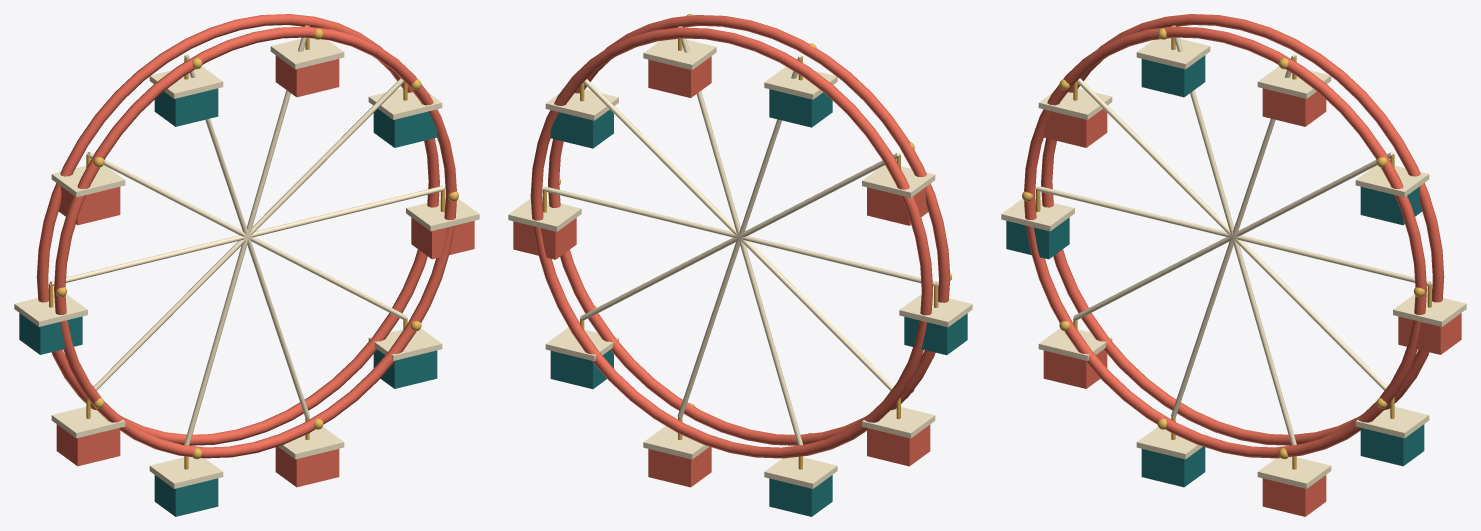
File: ferris_rotor.glb
3 renders of one model, left to right at view 1: azimuth 30°, elevation 25°; view 2: azimuth 150°, elevation 25°; view 3: azimuth 330°, elevation 25°, orthographic.
Visible parts, largest first — view 1: ferris_rotor, Cabin_7, Cabin_2, Cabin_6, Cabin_8, Cabin_1, Cabin_5, Cabin_0, Cabin_3, Cabin_9, Cabin_4; view 2: ferris_rotor, Cabin_7, Cabin_2, Cabin_6, Cabin_8, Cabin_5, Cabin_0, Cabin_1, Cabin_3, Cabin_9, Cabin_4; view 3: ferris_rotor, Cabin_8, Cabin_3, Cabin_9, Cabin_7, Cabin_4, Cabin_0, Cabin_5, Cabin_2, Cabin_6, Cabin_1.
Boxes of the visible parts, box(x1,y1,x2,y2) form: ferris_rotor: box(36, 14, 458, 459); Cabin_7: box(149, 456, 223, 516); Cabin_2: box(270, 25, 344, 97); Cabin_6: box(51, 397, 125, 466); Cabin_8: box(270, 417, 344, 487); Cabin_1: box(368, 82, 442, 147); Cabin_5: box(14, 283, 87, 354); Cabin_0: box(406, 187, 479, 259); Cabin_3: box(149, 55, 223, 126); Cabin_9: box(368, 318, 442, 388); Cabin_4: box(51, 153, 125, 225); ferris_rotor: box(530, 14, 951, 458); Cabin_7: box(764, 456, 837, 516); Cabin_2: box(643, 26, 716, 97); Cabin_6: box(862, 397, 935, 466); Cabin_8: box(643, 417, 716, 487); Cabin_5: box(899, 283, 972, 355); Cabin_0: box(508, 188, 581, 259); Cabin_1: box(545, 83, 618, 148); Cabin_3: box(764, 56, 837, 127); Cabin_9: box(545, 318, 618, 388); Cabin_4: box(862, 154, 935, 225); ferris_rotor: box(1022, 14, 1444, 459); Cabin_8: box(1257, 456, 1331, 516); Cabin_3: box(1136, 25, 1210, 97); Cabin_9: box(1355, 397, 1429, 466); Cabin_7: box(1136, 417, 1210, 487); Cabin_4: box(1038, 82, 1112, 147); Cabin_0: box(1393, 283, 1466, 354); Cabin_5: box(1001, 187, 1074, 259); Cabin_2: box(1257, 55, 1331, 126); Cabin_6: box(1038, 318, 1112, 388); Cabin_1: box(1355, 153, 1429, 225).
Size of the model in its own units: 10.35 by 10.4 by 1.04.
